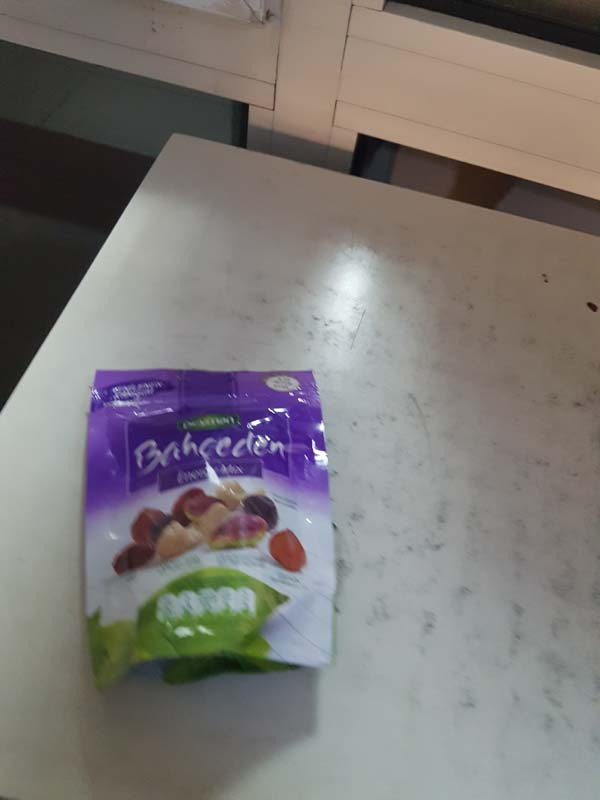bahcedenenergymix: (83, 361, 337, 678)
